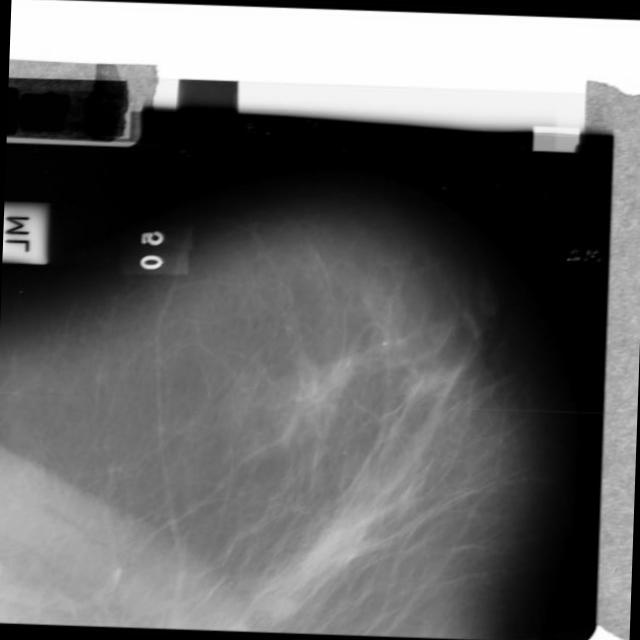MISC: (237, 482, 395, 640)
